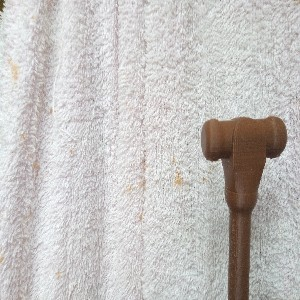palu: (201, 115, 287, 300)
